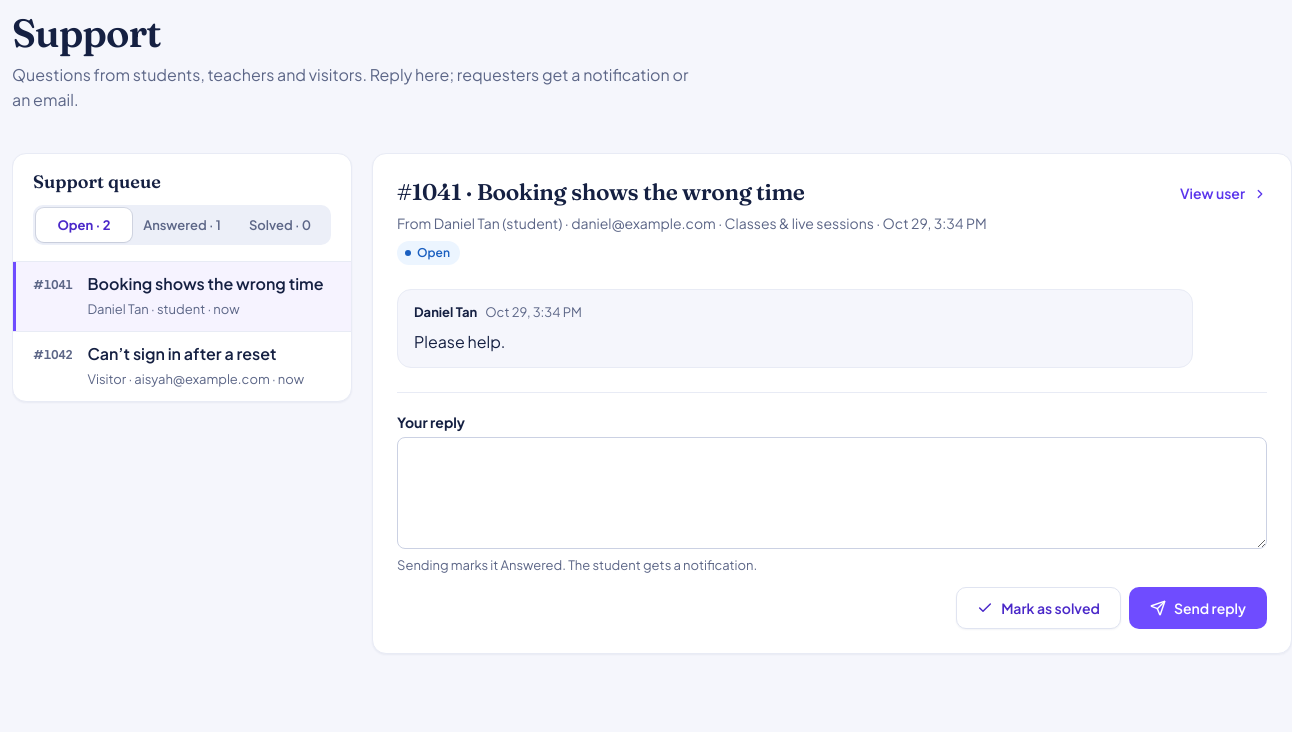
Test: AdminSupportPage › opens a request from the list beside the queue
The width and height of the screenshot is (1292, 732).
Click the button with test id "admin-support-item" that starts with "Can’t sign in after a reset" at (182, 367), box top-left (13, 332), bottom-right (351, 401)
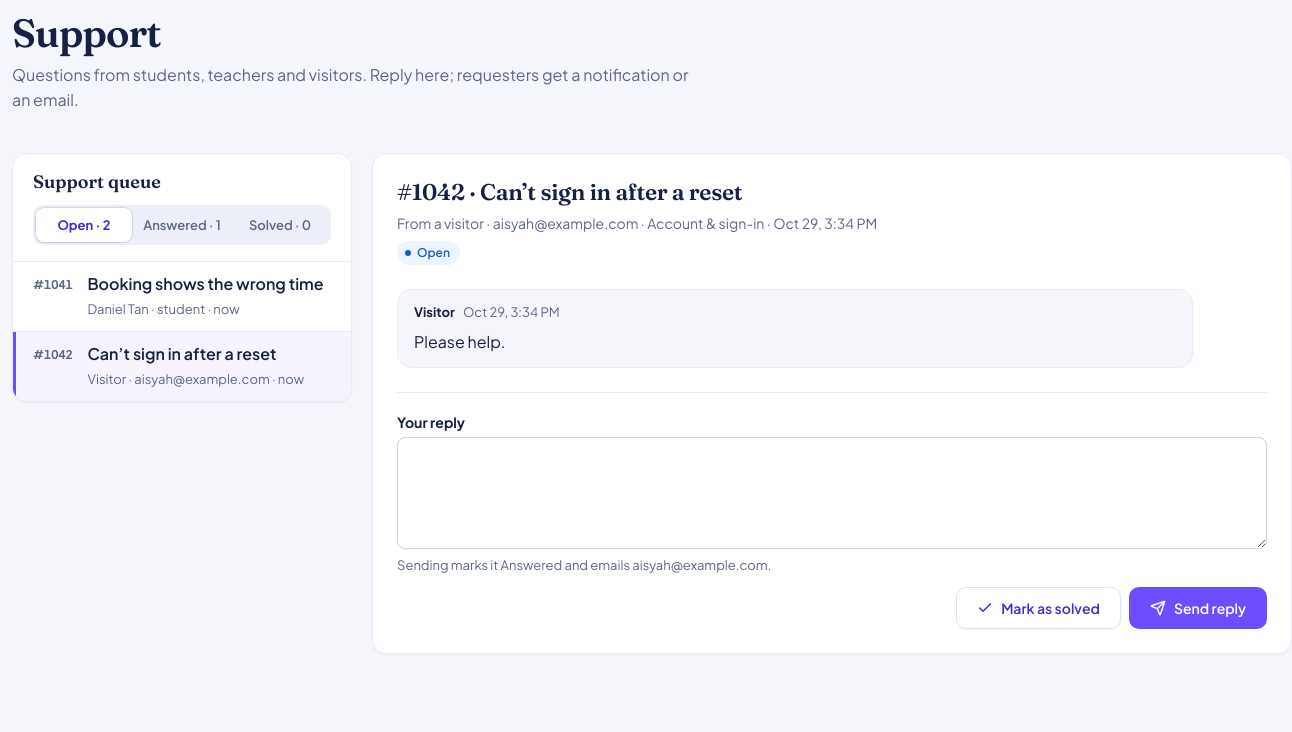
Expected: the element with test id "admin-support-detail" shows "#1042", top-left (397, 178), bottom-right (742, 206)
Click the button with test id "admin-support-item" that starts with "Booking shows the wrong time" at (182, 297), box top-left (13, 262), bottom-right (351, 331)
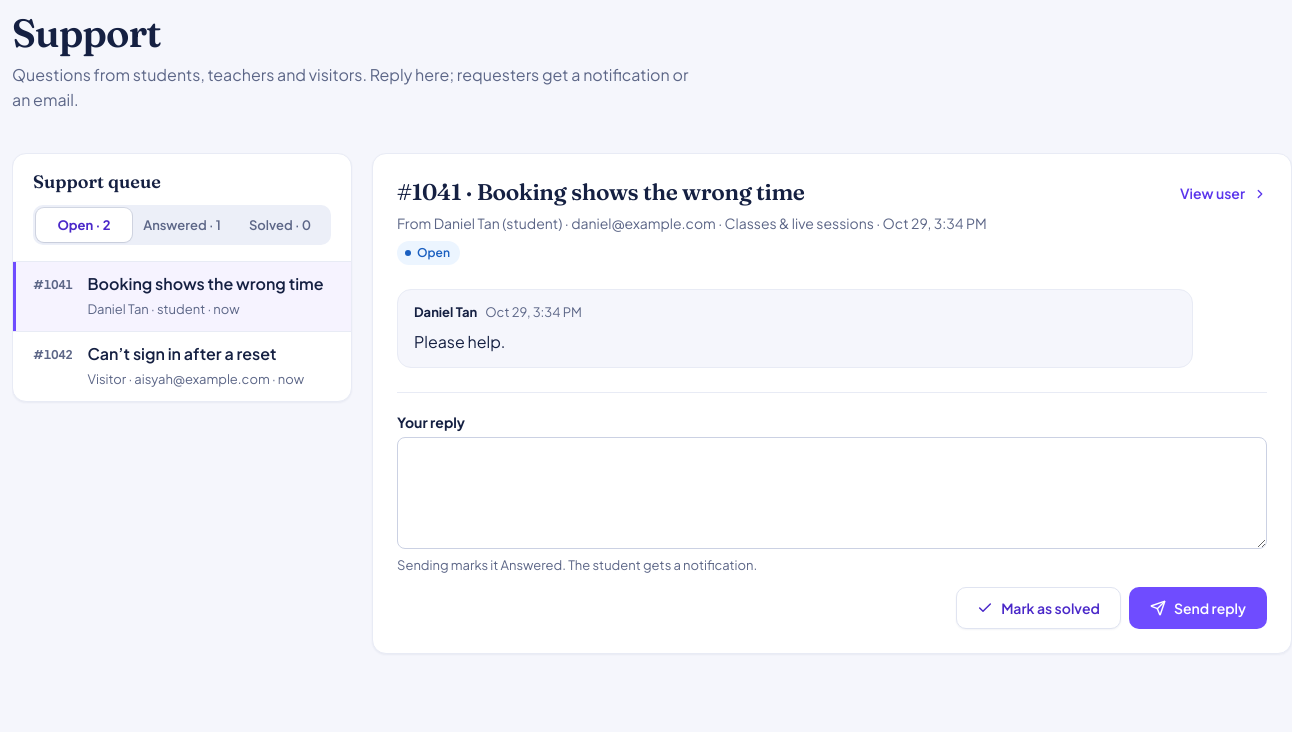
Expected: the element with test id "admin-support-detail" shows "#1041 · Booking shows the wrong time", top-left (397, 178), bottom-right (805, 206)
Expected: the element with test id "admin-support-detail" shows "From Daniel Tan (student) · daniel@example.com · Classes", top-left (397, 214), bottom-right (987, 232)
Expected: the link to "/admin/users?user=90" is shown, top-left (1180, 184), bottom-right (1267, 202)
